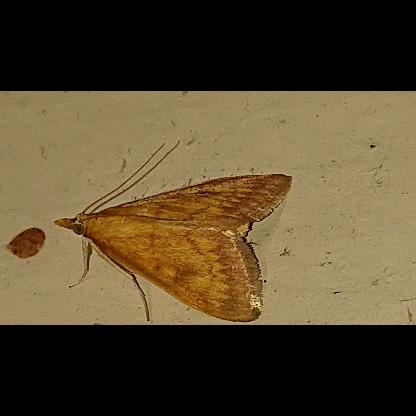Asian Corn Borer Moth: (52, 141, 294, 325)
